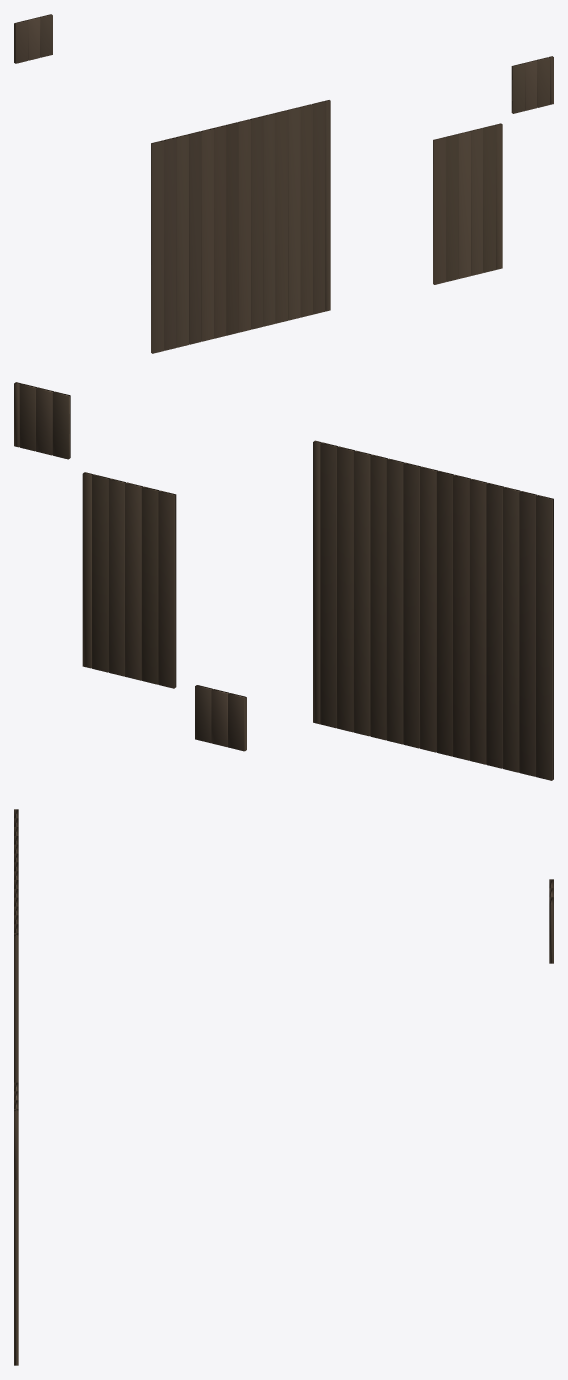
File: SM_BarnWood_00.glb
3 renders of one model, top to bottom at view 1: azimuth 30°, elevation 25°; view 2: azimuth 150°, elevation 25°; view 3: azimuth 270°, elevation 25°, orthographic. The views are drawn at different scales.
Parts seen in each view (by area): view 1: SM_BarnWood_00; view 2: SM_BarnWood_00; view 3: SM_BarnWood_00.
Boxes of the visible parts, bbox=[...] form: SM_BarnWood_00: bbox=[14, 14, 553, 353]; SM_BarnWood_00: bbox=[14, 382, 553, 780]; SM_BarnWood_00: bbox=[14, 809, 553, 1365].
Size of the model in its own units: 5.84 by 2.91 by 4.65.
